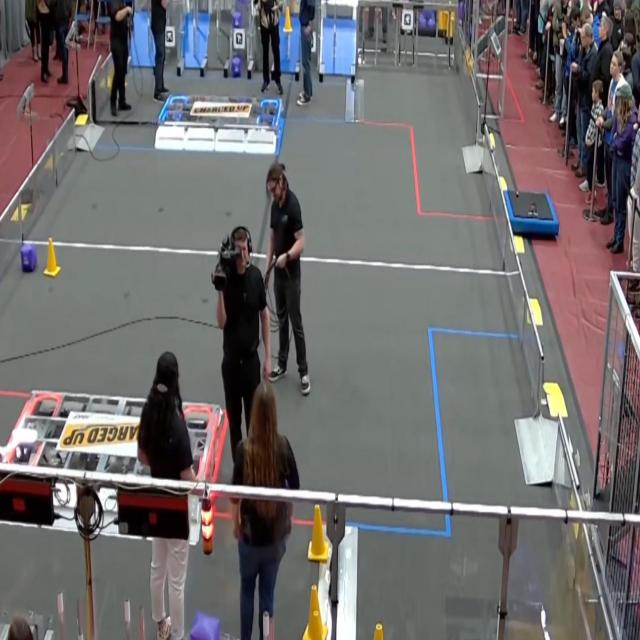frc_cone: (302, 584, 328, 640), (306, 505, 330, 561), (43, 238, 61, 279), (304, 610, 324, 640), (371, 622, 387, 640), (438, 10, 449, 32), (446, 14, 454, 39)
frc_cube: (190, 613, 221, 640), (20, 244, 37, 272), (230, 59, 242, 78), (232, 9, 244, 28), (426, 11, 434, 28), (418, 16, 426, 28)
